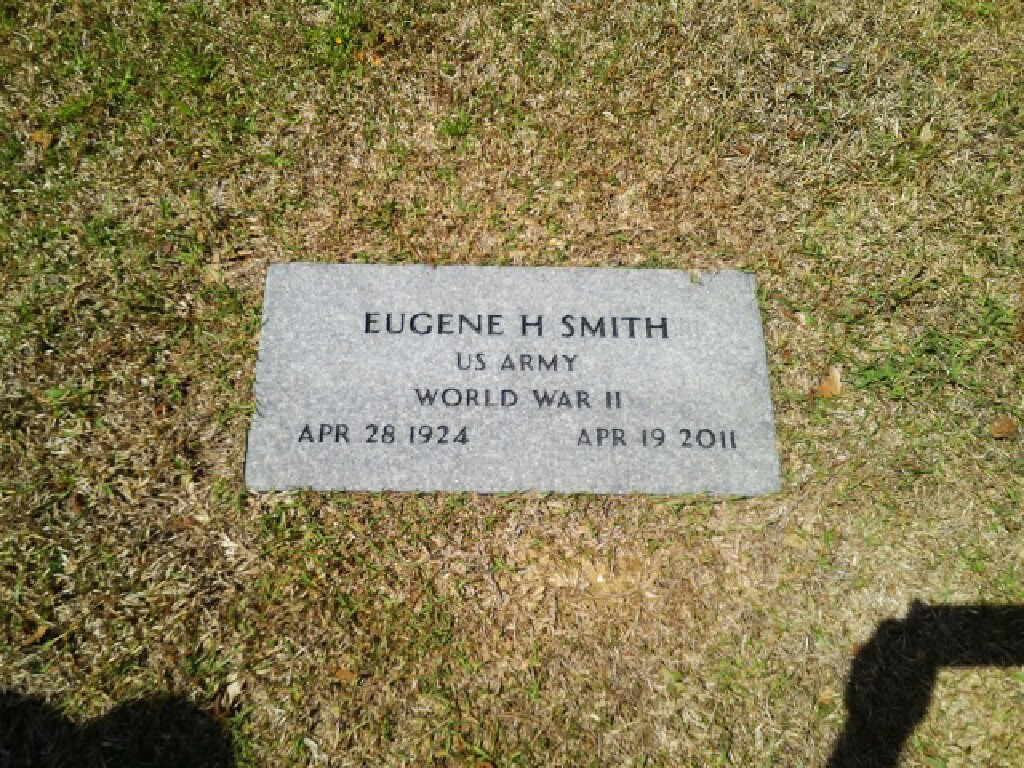flat: (243, 245, 777, 509)
